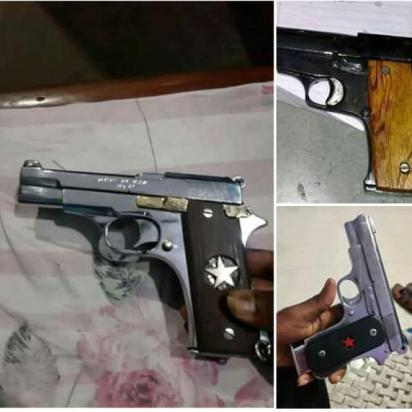Gun: (12, 152, 274, 369), (274, 20, 412, 197), (283, 211, 412, 384)
